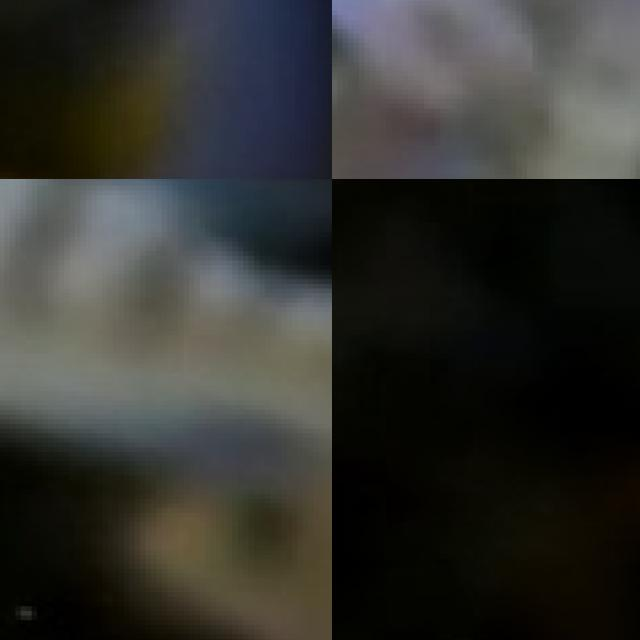fish: (0, 0, 332, 179), (96, 447, 332, 640)
